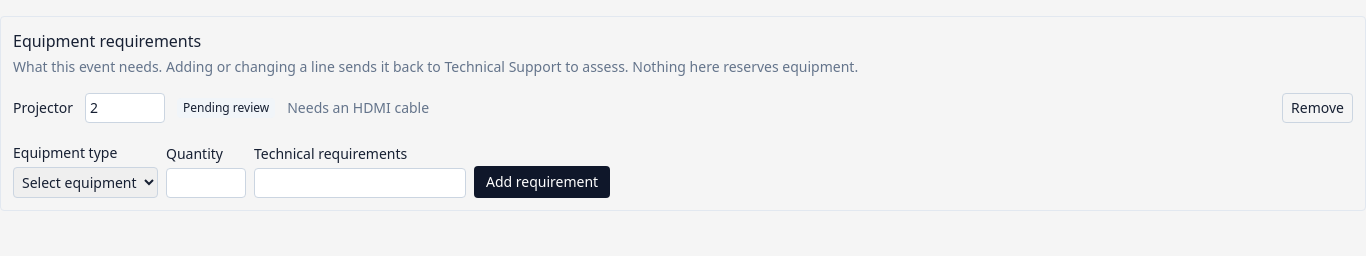
a failure that names no field still reaches the Coordinator
Expected: the number field named "Quantity for Projector" is shown, 85,93 -> 165,123
Click the button with aria-label "Remove Projector": point(1318, 108) 1282,93 -> 1353,123
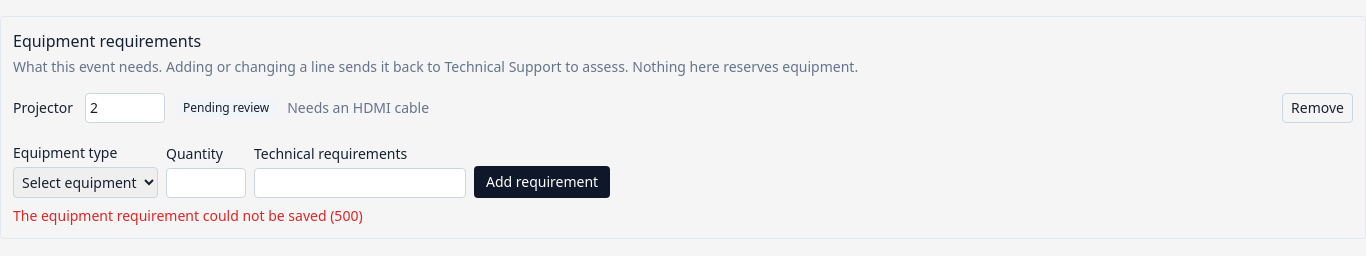
Result: the message shows "could not be saved (500)" at 13,206 -> 363,225
